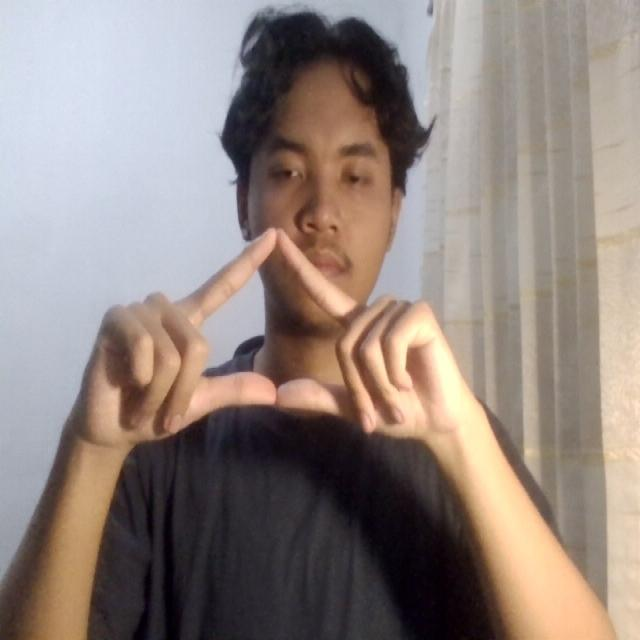A: (62, 212, 488, 467)
